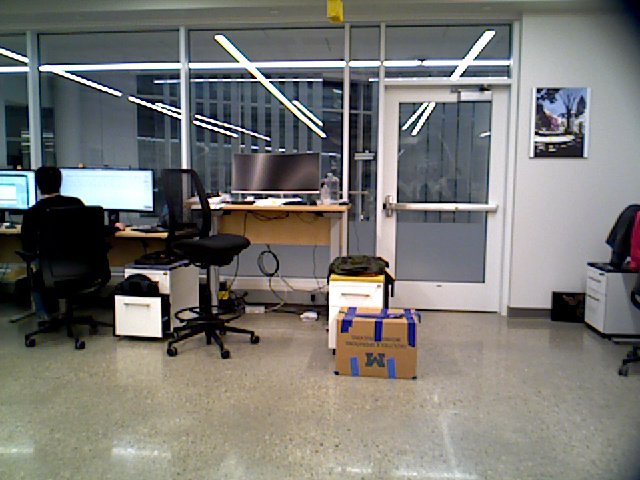painting3: (533, 88, 589, 160)
